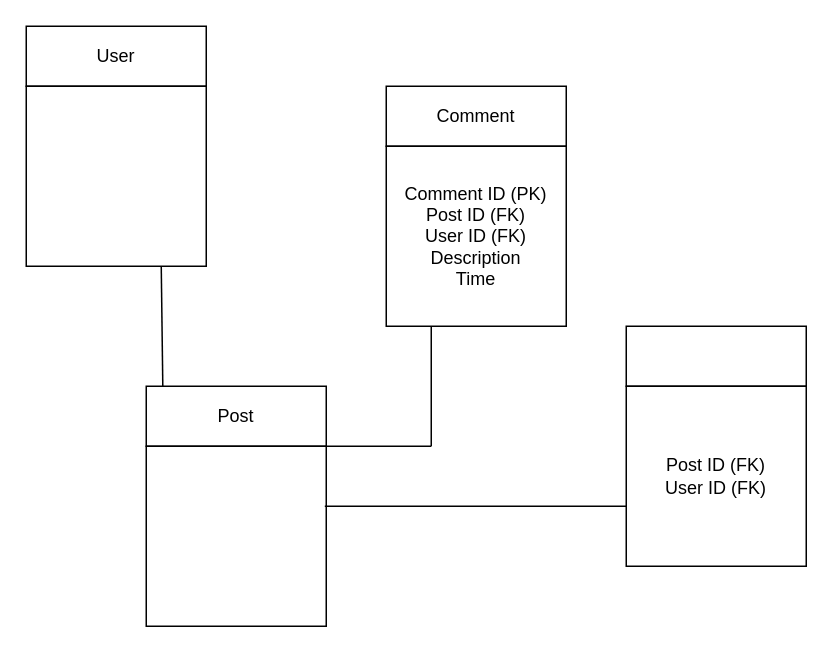
This 833x653 diagram has some shape labels left out. The box of each missing label's shape, as (x1, y1, x2, y2) in pixels:
Like: (625, 325, 806, 386)
Post ID (PK) User ID (FK) Title Desciption Image: (145, 445, 326, 626)
User ID (PK) Name Gender Age: (25, 85, 206, 266)
